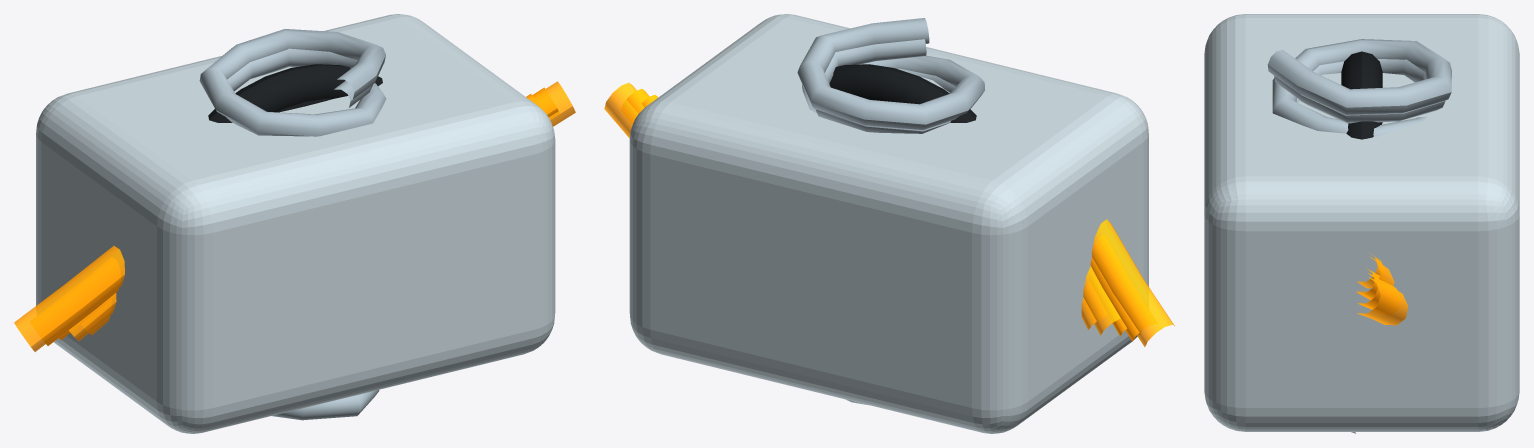
Rendered from remaining_systems_07.glb.
3 renders of one model, left to right at view 1: azimuth 30°, elevation 25°; view 2: azimuth 150°, elevation 25°; view 3: azimuth 270°, elevation 25°, orthographic.
Visible parts, largest first — view 1: asset_mesh__remaining_systems_0764__reference_body, asset_mesh__remaining_systems_0787__coil_spring, asset_mesh__remaining_systems_0782__fluid_path, asset_mesh__remaining_systems_0818__service_element, asset_mesh__remaining_systems_0795__coil_spring, asset_mesh__remaining_systems_0761__fluid_path, asset_mesh__remaining_systems_0763__fluid_path; view 2: asset_mesh__remaining_systems_0764__reference_body, asset_mesh__remaining_systems_0787__coil_spring, asset_mesh__remaining_systems_0782__fluid_path, asset_mesh__remaining_systems_0818__service_element, asset_mesh__remaining_systems_0795__coil_spring, asset_mesh__remaining_systems_0761__fluid_path, asset_mesh__remaining_systems_0763__fluid_path; view 3: asset_mesh__remaining_systems_0764__reference_body, asset_mesh__remaining_systems_0787__coil_spring, asset_mesh__remaining_systems_0795__coil_spring, asset_mesh__remaining_systems_0818__service_element, asset_mesh__remaining_systems_0782__fluid_path.
Part boxes in pixels (x1=…): asset_mesh__remaining_systems_0764__reference_body: x1=36, y1=14, x2=555, y2=433; asset_mesh__remaining_systems_0787__coil_spring: x1=199, y1=29, x2=386, y2=420; asset_mesh__remaining_systems_0782__fluid_path: x1=14, y1=81, x2=575, y2=351; asset_mesh__remaining_systems_0818__service_element: x1=208, y1=64, x2=382, y2=122; asset_mesh__remaining_systems_0795__coil_spring: x1=227, y1=48, x2=372, y2=107; asset_mesh__remaining_systems_0761__fluid_path: x1=69, y1=293, x2=116, y2=340; asset_mesh__remaining_systems_0763__fluid_path: x1=46, y1=87, x2=558, y2=345; asset_mesh__remaining_systems_0764__reference_body: x1=629, y1=14, x2=1148, y2=433; asset_mesh__remaining_systems_0787__coil_spring: x1=797, y1=18, x2=984, y2=405; asset_mesh__remaining_systems_0782__fluid_path: x1=604, y1=82, x2=1174, y2=346; asset_mesh__remaining_systems_0818__service_element: x1=829, y1=64, x2=976, y2=122; asset_mesh__remaining_systems_0795__coil_spring: x1=815, y1=39, x2=955, y2=133; asset_mesh__remaining_systems_0761__fluid_path: x1=1083, y1=266, x2=1120, y2=335; asset_mesh__remaining_systems_0763__fluid_path: x1=626, y1=89, x2=1139, y2=341; asset_mesh__remaining_systems_0764__reference_body: x1=1204, y1=14, x2=1519, y2=431; asset_mesh__remaining_systems_0787__coil_spring: x1=1267, y1=39, x2=1451, y2=433; asset_mesh__remaining_systems_0795__coil_spring: x1=1274, y1=59, x2=1445, y2=123; asset_mesh__remaining_systems_0818__service_element: x1=1341, y1=51, x2=1382, y2=139; asset_mesh__remaining_systems_0782__fluid_path: x1=1357, y1=277, x2=1408, y2=325.
Size of the model in its own units: 1.73 by 1.03 by 0.84.
